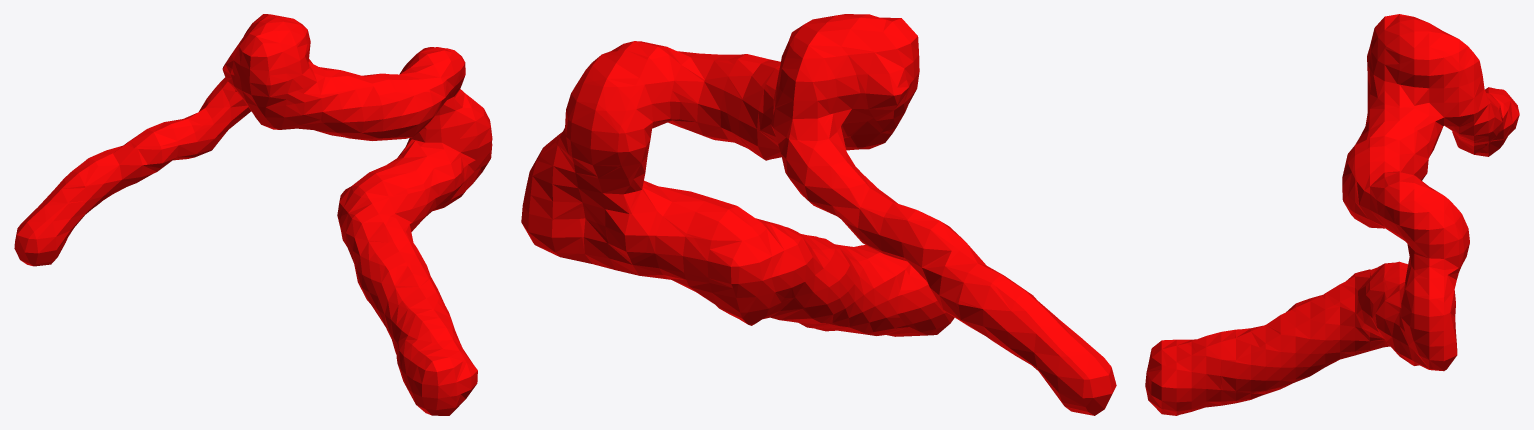
Rendered from Vesicle_associated_membrane_pr_2_coarse.dae.
3 renders of one model, left to right at view 1: azimuth 30°, elevation 25°; view 2: azimuth 150°, elevation 25°; view 3: azimuth 270°, elevation 25°, orthographic. The views are drawn at different scales.
Visible parts, largest first — view 1: Vesicle_associated_membrane_pr_2; view 2: Vesicle_associated_membrane_pr_2; view 3: Vesicle_associated_membrane_pr_2.
Part boxes in pixels (x1,y1,x2,y2): Vesicle_associated_membrane_pr_2: (14,14,492,415); Vesicle_associated_membrane_pr_2: (521,14,1116,415); Vesicle_associated_membrane_pr_2: (1145,14,1519,415).
Size of the model in its own units: 102 by 70.77 by 66.76.
